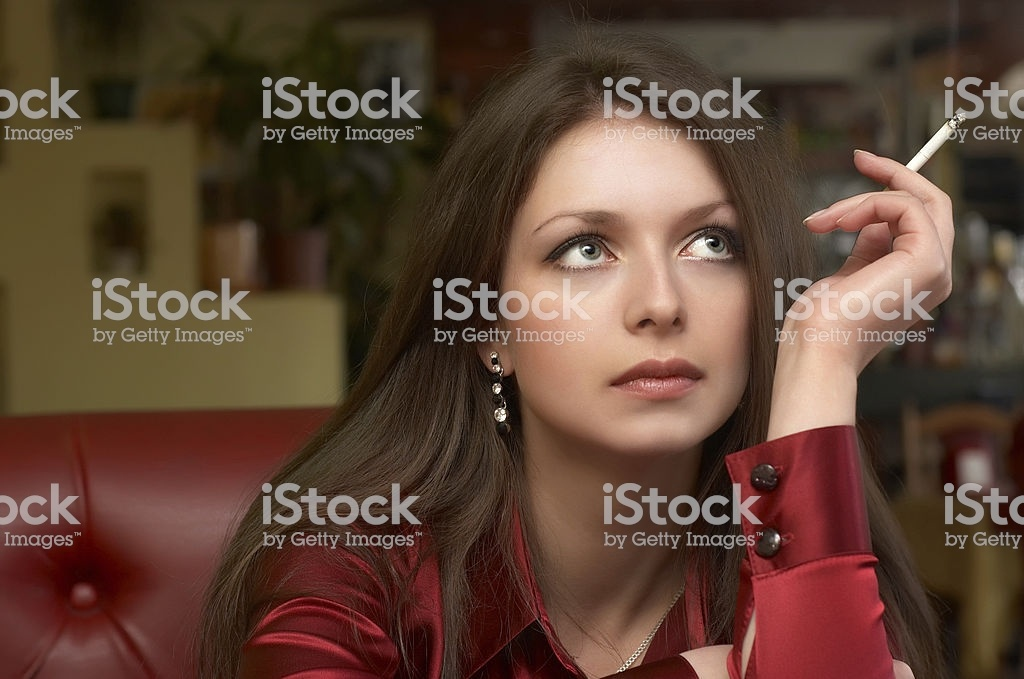sigaretta: (896, 110, 958, 183)
